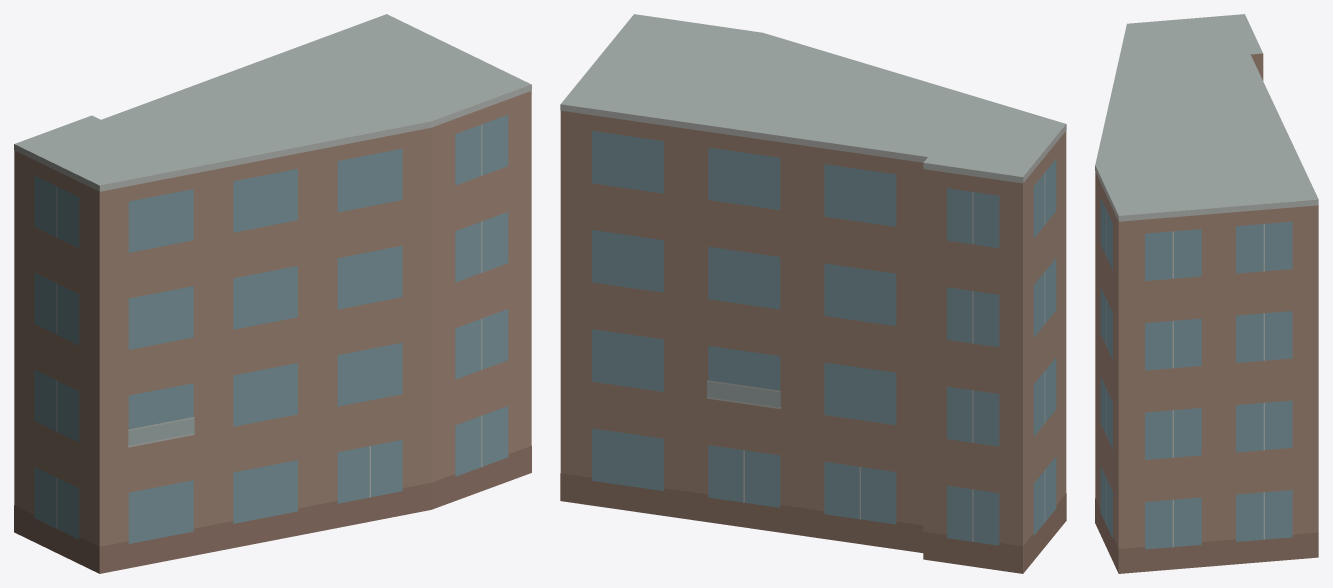
The model's file is survey-upis-32741225.glb.
3 renders of one model, left to right at view 1: azimuth 30°, elevation 25°; view 2: azimuth 150°, elevation 25°; view 3: azimuth 270°, elevation 25°, orthographic. The views are drawn at different scales.
Visible parts, largest first — view 1: survey-upis-32741225.tmp; view 2: survey-upis-32741225.tmp; view 3: survey-upis-32741225.tmp.
Boxes of the visible parts, left/top/right/bottom form: survey-upis-32741225.tmp: left=14, top=14, right=531, bottom=573; survey-upis-32741225.tmp: left=560, top=14, right=1066, bottom=573; survey-upis-32741225.tmp: left=1095, top=14, right=1318, bottom=573.
Bounding box in the file's own units: 18.47 × 15.25 × 8.65.
